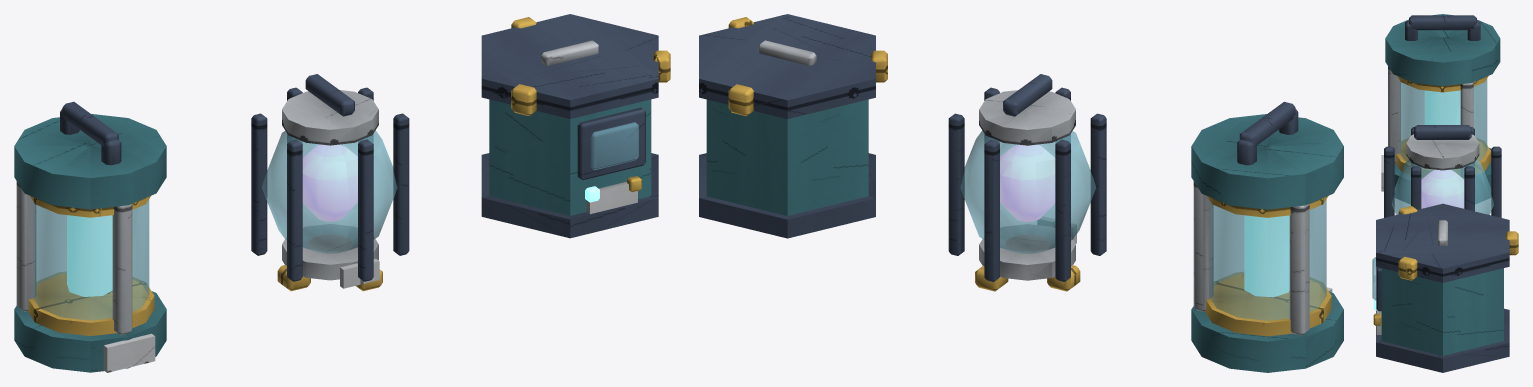
3 views of the same model, side by side, from view 1: azimuth 30°, elevation 25°; view 2: azimuth 150°, elevation 25°; view 3: azimuth 270°, elevation 25° (orthographic). The views are drawn at different scales.
Parts seen in each view (by area): view 1: DL004_SampleCanisterFamily_graphite_navy, DL004_SampleCanisterFamily_teal_shell, DL004_SampleCanisterFamily_glass_cyan, DL004_SampleCanisterFamily_titanium, DL004_SampleCanisterFamily_amber_accent, DL004_SampleCanisterFamily_emissive_cyan, DL004_SampleCanisterFamily_specimen_violet, DL004_SampleCanisterFamily_hull_offwhite; view 2: DL004_SampleCanisterFamily_teal_shell, DL004_SampleCanisterFamily_graphite_navy, DL004_SampleCanisterFamily_glass_cyan, DL004_SampleCanisterFamily_titanium, DL004_SampleCanisterFamily_amber_accent, DL004_SampleCanisterFamily_specimen_violet, DL004_SampleCanisterFamily_emissive_cyan; view 3: DL004_SampleCanisterFamily_teal_shell, DL004_SampleCanisterFamily_graphite_navy, DL004_SampleCanisterFamily_glass_cyan, DL004_SampleCanisterFamily_titanium, DL004_SampleCanisterFamily_amber_accent, DL004_SampleCanisterFamily_specimen_violet, DL004_SampleCanisterFamily_emissive_cyan, DL004_SampleCanisterFamily_hull_offwhite.
Boxes of the visible parts, <box> form: DL004_SampleCanisterFamily_graphite_navy: <box>60,14,658,281</box>; DL004_SampleCanisterFamily_teal_shell: <box>14,99,651,372</box>; DL004_SampleCanisterFamily_glass_cyan: <box>33,122,638,320</box>; DL004_SampleCanisterFamily_titanium: <box>16,40,598,335</box>; DL004_SampleCanisterFamily_amber_accent: <box>28,17,670,335</box>; DL004_SampleCanisterFamily_emissive_cyan: <box>67,186,599,296</box>; DL004_SampleCanisterFamily_specimen_violet: <box>302,144,357,221</box>; DL004_SampleCanisterFamily_hull_offwhite: <box>103,181,637,372</box>; DL004_SampleCanisterFamily_teal_shell: <box>706,99,1343,372</box>; DL004_SampleCanisterFamily_graphite_navy: <box>699,14,1298,281</box>; DL004_SampleCanisterFamily_glass_cyan: <box>960,130,1326,320</box>; DL004_SampleCanisterFamily_titanium: <box>758,40,1309,335</box>; DL004_SampleCanisterFamily_amber_accent: <box>728,17,1331,336</box>; DL004_SampleCanisterFamily_specimen_violet: <box>1000,144,1055,221</box>; DL004_SampleCanisterFamily_emissive_cyan: <box>1244,215,1289,297</box>; DL004_SampleCanisterFamily_teal_shell: <box>1381,14,1503,355</box>; DL004_SampleCanisterFamily_graphite_navy: <box>1376,15,1509,372</box>; DL004_SampleCanisterFamily_glass_cyan: <box>1372,78,1493,300</box>; DL004_SampleCanisterFamily_titanium: <box>1388,66,1479,246</box>; DL004_SampleCanisterFamily_amber_accent: <box>1373,76,1518,325</box>; DL004_SampleCanisterFamily_specimen_violet: <box>1421,169,1464,208</box>; DL004_SampleCanisterFamily_emissive_cyan: <box>1373,90,1460,310</box>; DL004_SampleCanisterFamily_hull_offwhite: <box>1376,155,1383,334</box>.
Bounding box in the file's own units: 2.12 × 0.71 × 0.56.
8 materials, 5 textured.
